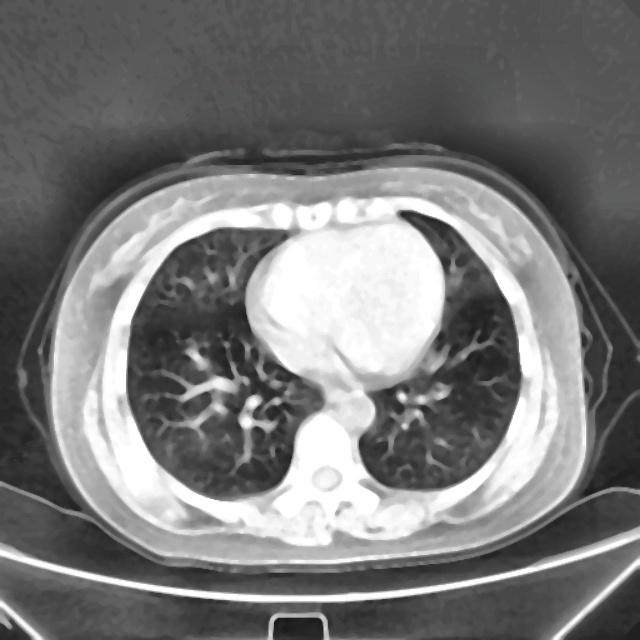covid: (30, 145, 596, 572)
